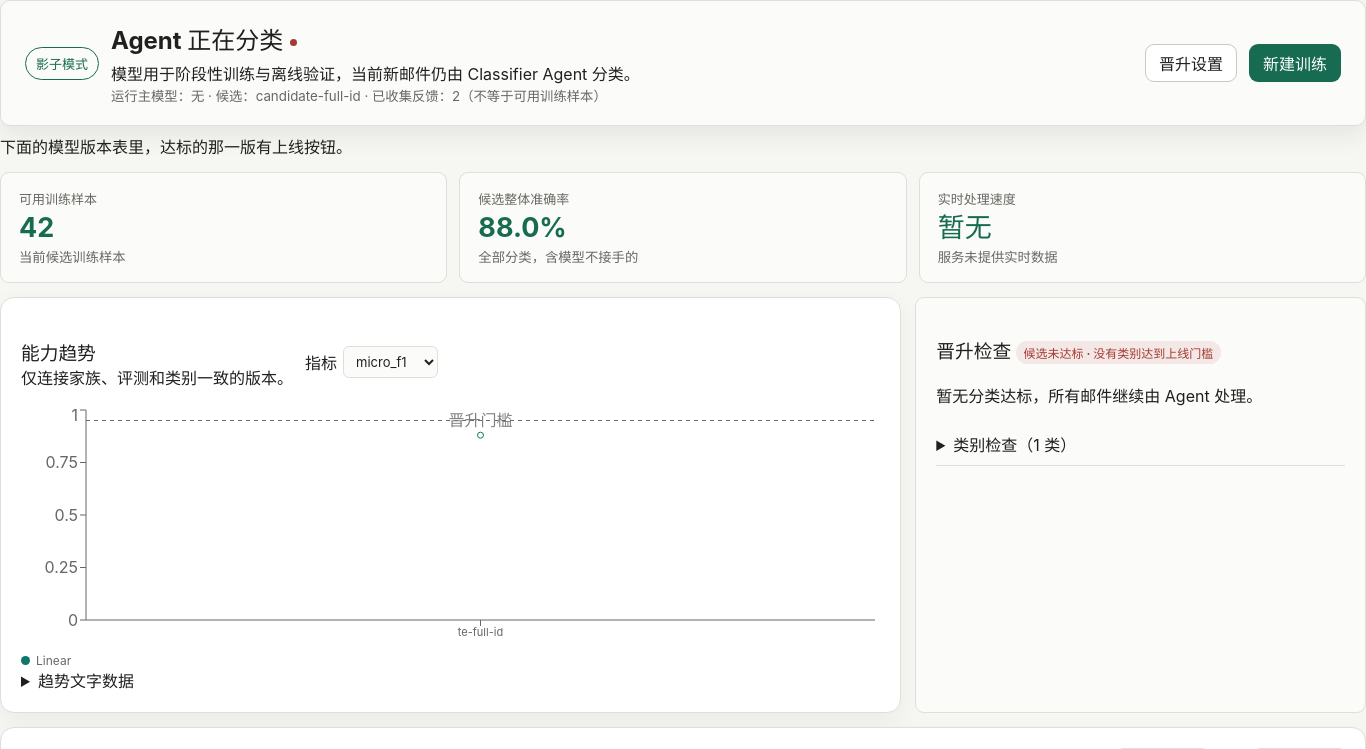
Scenario: keeps the runtime header visible and opens compact setup and promotion dialogs
expect the heading "Agent 正在分类" is shown: met, box [111,26,297,55]
expect the button "晋升设置" is shown: met, box [1145,44,1237,82]
Click the button "新建训练": (1295, 63) [1249,44,1341,82]
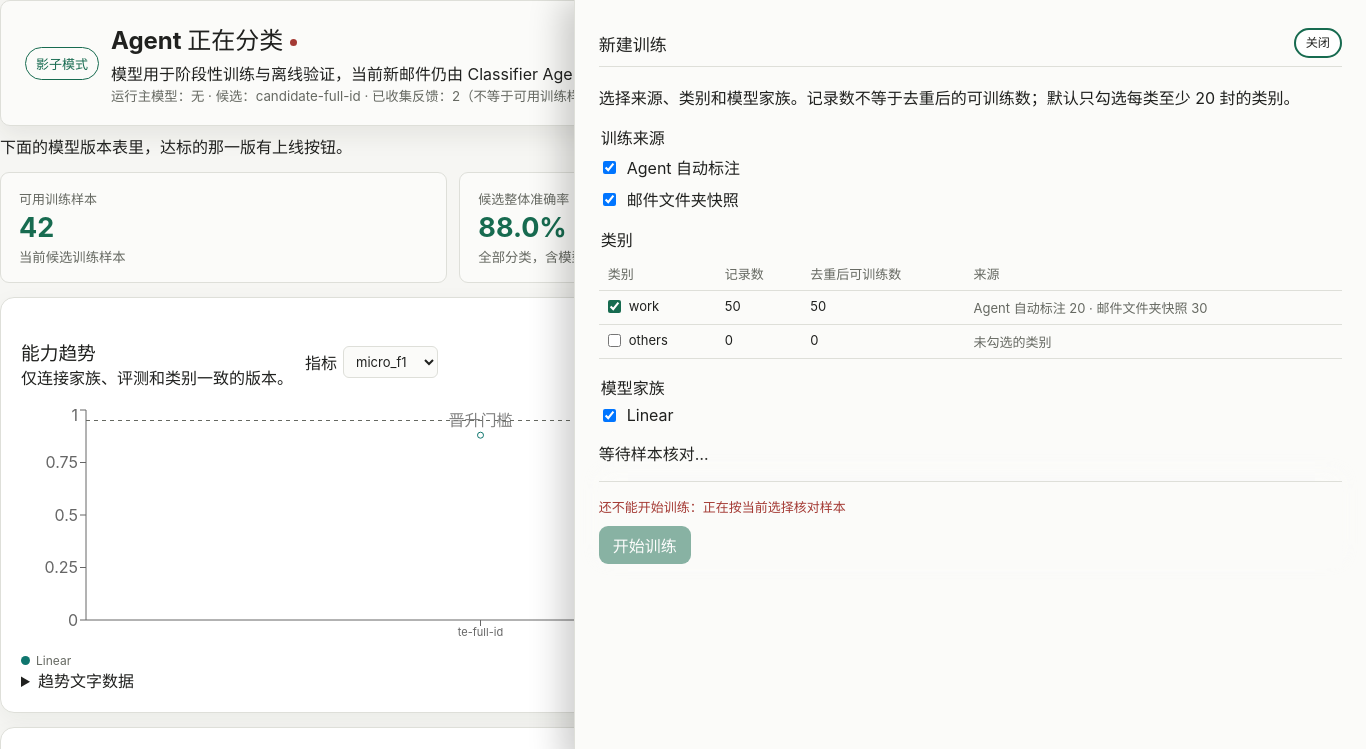
expect the dialog "新建训练" shows "邮件文件夹快照": met, box [627,190,739,210]
Click the button with aria-label "关闭详情": (1318, 43) [1294,28,1342,58]
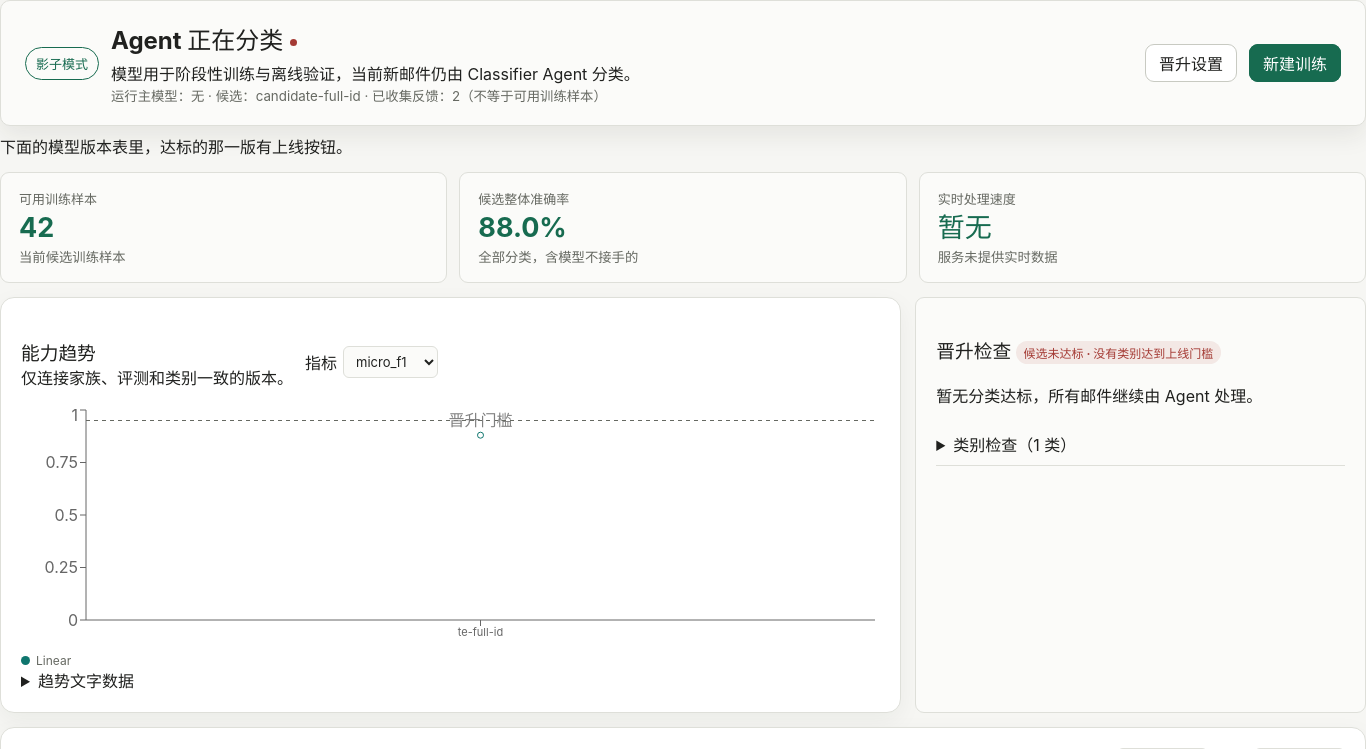
Click the button "晋升设置": (1191, 63) [1145,44,1237,82]
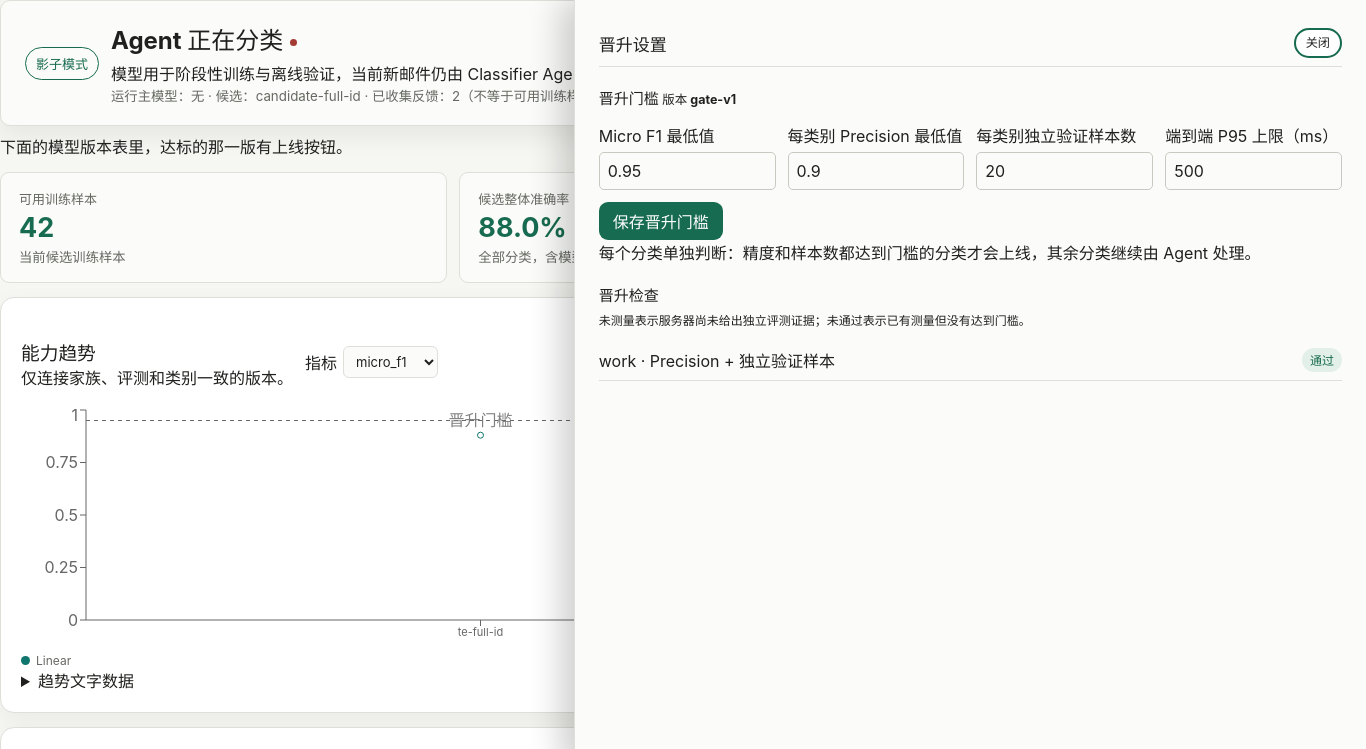
expect the dialog "晋升设置" shows "保存晋升门槛": met, box [599,202,723,240]
